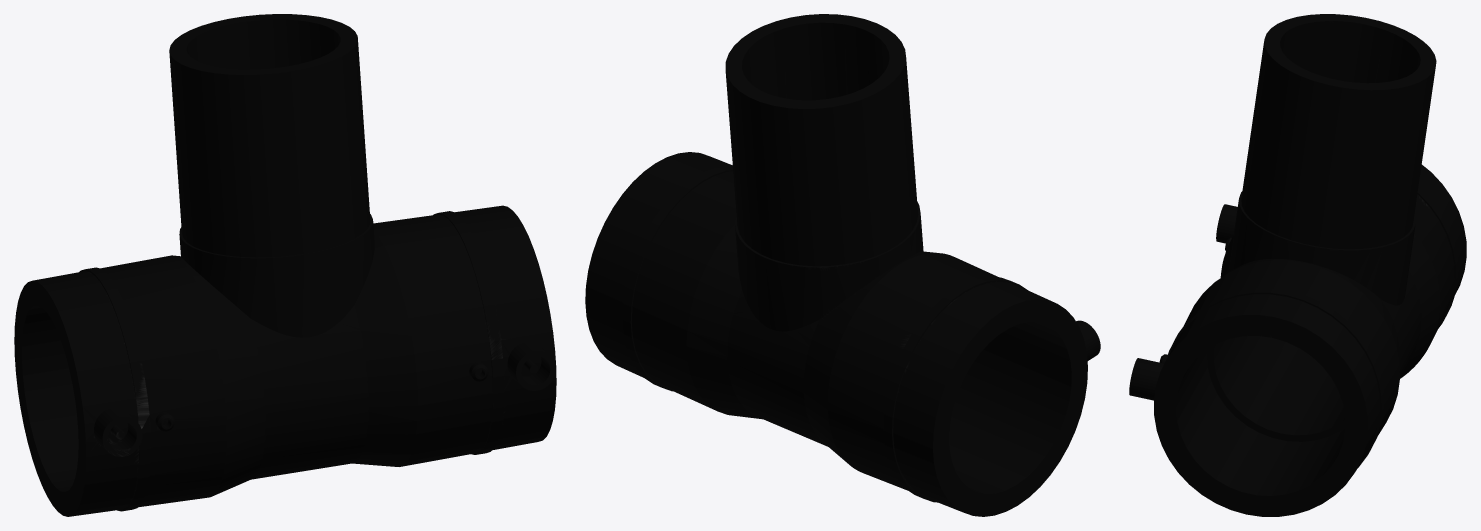
File: тройник 3д .glb
3 views of the same model, side by side, from view 1: azimuth 30°, elevation 25°; view 2: azimuth 150°, elevation 25°; view 3: azimuth 270°, elevation 25° (orthographic). The views are drawn at different scales.
Visible parts, largest first — view 1: node_id3; view 2: node_id3; view 3: node_id3.
Part boxes in pixels (left/top/right/bottom): node_id3: left=14, top=14, right=556, bottom=516; node_id3: left=585, top=14, right=1100, bottom=516; node_id3: left=1129, top=14, right=1466, bottom=516.
Bounding box in the file's own units: 0.5974 × 0.5286 × 0.4114.
1 material, 1 textured.
